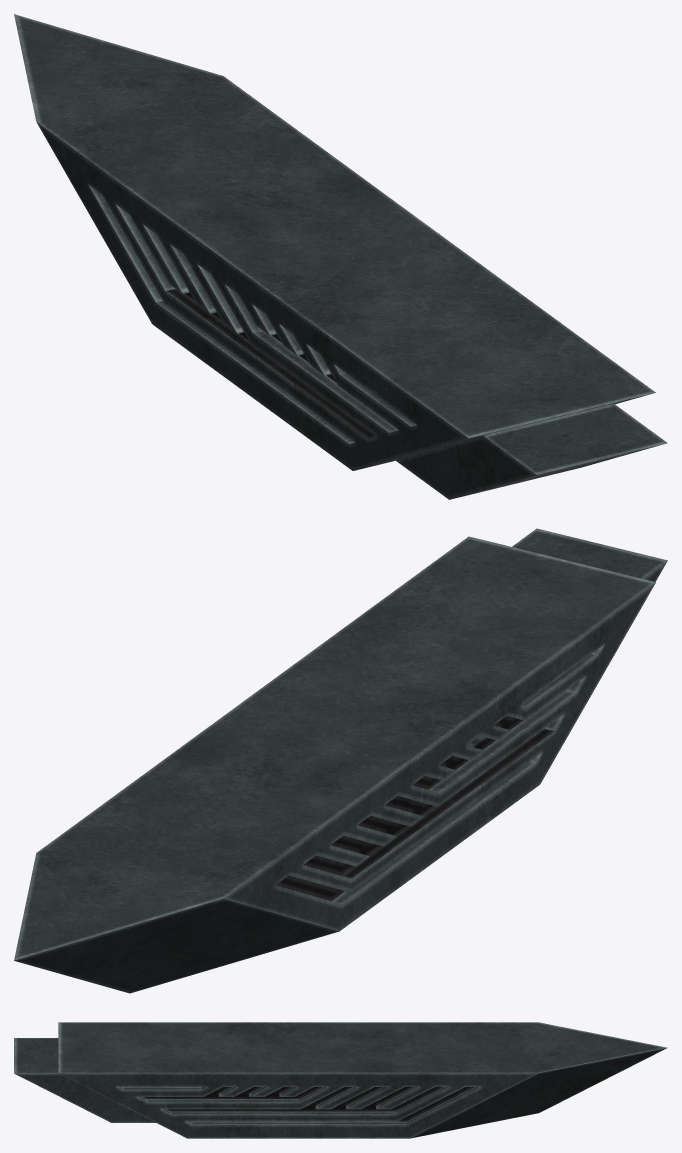
The model's file is SharkGun.fbx.
3 views of the same model, one above another, from view 1: azimuth 30°, elevation 25°; view 2: azimuth 150°, elevation 25°; view 3: azimuth 270°, elevation 25° (orthographic). The views are drawn at different scales.
Parts seen in each view (by area): view 1: Fullshark - Sharkgun-1; view 2: Fullshark - Sharkgun-1; view 3: Fullshark - Sharkgun-1.
Boxes of the visible parts, box(x1,y1,x2,y2) form: Fullshark - Sharkgun-1: box(14, 14, 667, 499); Fullshark - Sharkgun-1: box(14, 528, 667, 993); Fullshark - Sharkgun-1: box(14, 1022, 667, 1138).
Size of the model in its own units: 100 by 60 by 544.
